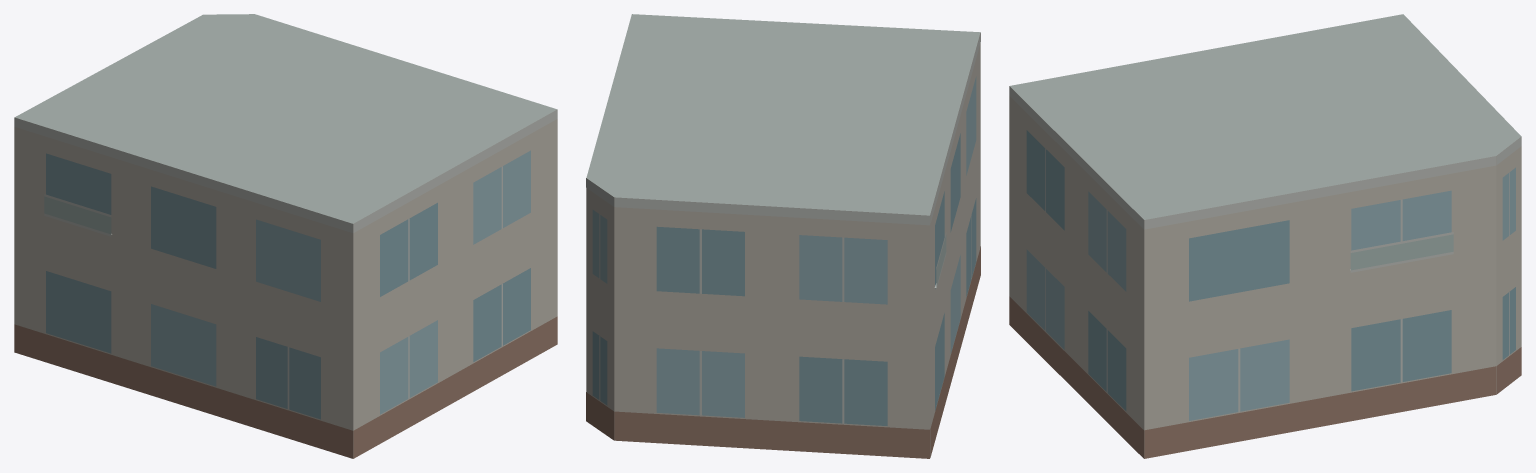
The model's file is survey-upis-32714237.glb.
3 renders of one model, left to right at view 1: azimuth 30°, elevation 25°; view 2: azimuth 150°, elevation 25°; view 3: azimuth 270°, elevation 25°, orthographic. The views are drawn at different scales.
Parts seen in each view (by area): view 1: survey-upis-32714237.tmp; view 2: survey-upis-32714237.tmp; view 3: survey-upis-32714237.tmp.
Part boxes in pixels (box(x1,y1,x2,y2)): survey-upis-32714237.tmp: box(14, 14, 557, 458); survey-upis-32714237.tmp: box(586, 14, 980, 458); survey-upis-32714237.tmp: box(1009, 14, 1521, 458).
Size of the model in its own units: 11.3 by 6.1 by 11.87.
